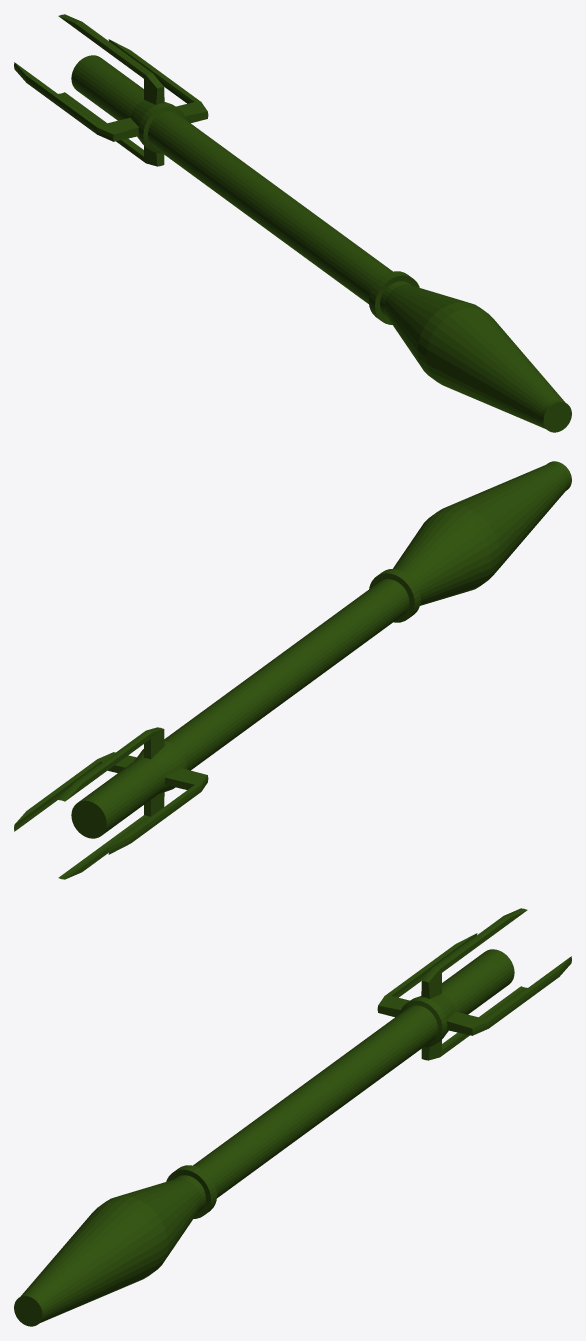
Rendered from rocket.fbx.
3 views of the same model, one above another, from view 1: azimuth 30°, elevation 25°; view 2: azimuth 150°, elevation 25°; view 3: azimuth 330°, elevation 25° (orthographic).
Parts seen in each view (by area): view 1: Circle; view 2: Circle; view 3: Circle.
Boxes of the visible parts, x1,y1,x2,y2 form: Circle: (14, 14, 571, 432); Circle: (14, 461, 571, 879); Circle: (14, 908, 571, 1326).
Bounding box in the file's own units: 211 × 171 × 1730.
